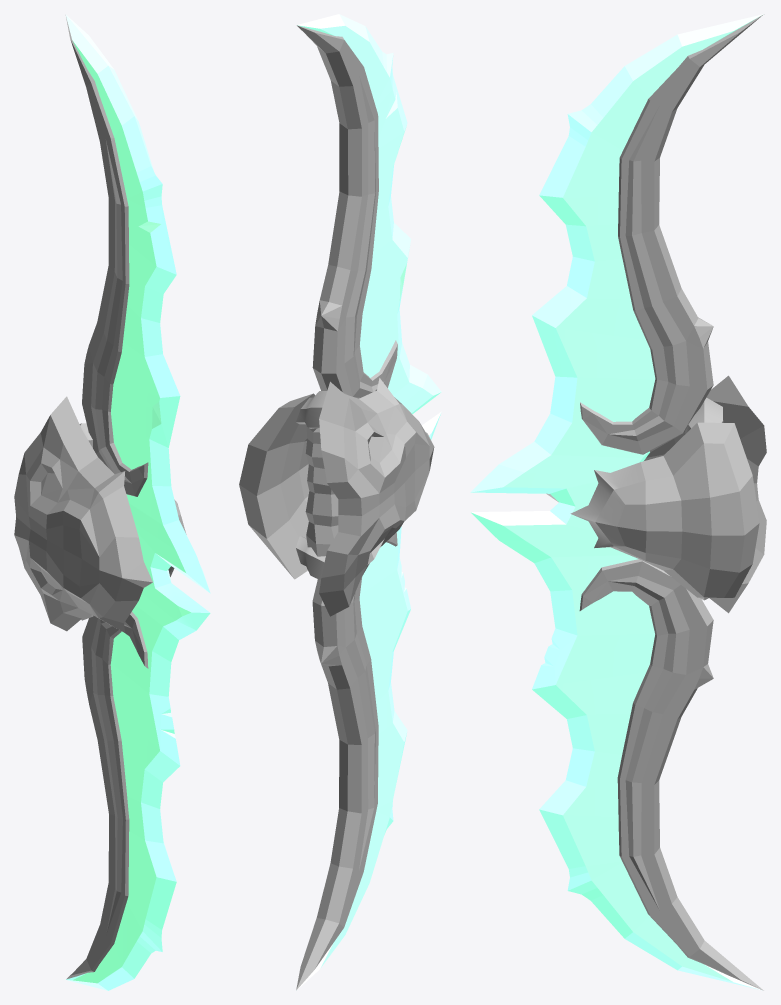
File: SM_Wep_Glaive_01.fbx
The picture shows the model from 3 angles, left to right: view 1: azimuth 30°, elevation 25°; view 2: azimuth 150°, elevation 25°; view 3: azimuth 270°, elevation 25°; orthographic projection.
Parts seen in each view (by area): view 1: SM_Wep_Glaive_01; view 2: SM_Wep_Glaive_01; view 3: SM_Wep_Glaive_01.
Boxes of the visible parts, x1,y1,x2,y2 form: SM_Wep_Glaive_01: [14, 14, 210, 990]; SM_Wep_Glaive_01: [239, 14, 441, 990]; SM_Wep_Glaive_01: [470, 14, 766, 990].
Size of the model in its own units: 21.87 by 156 by 42.9.
